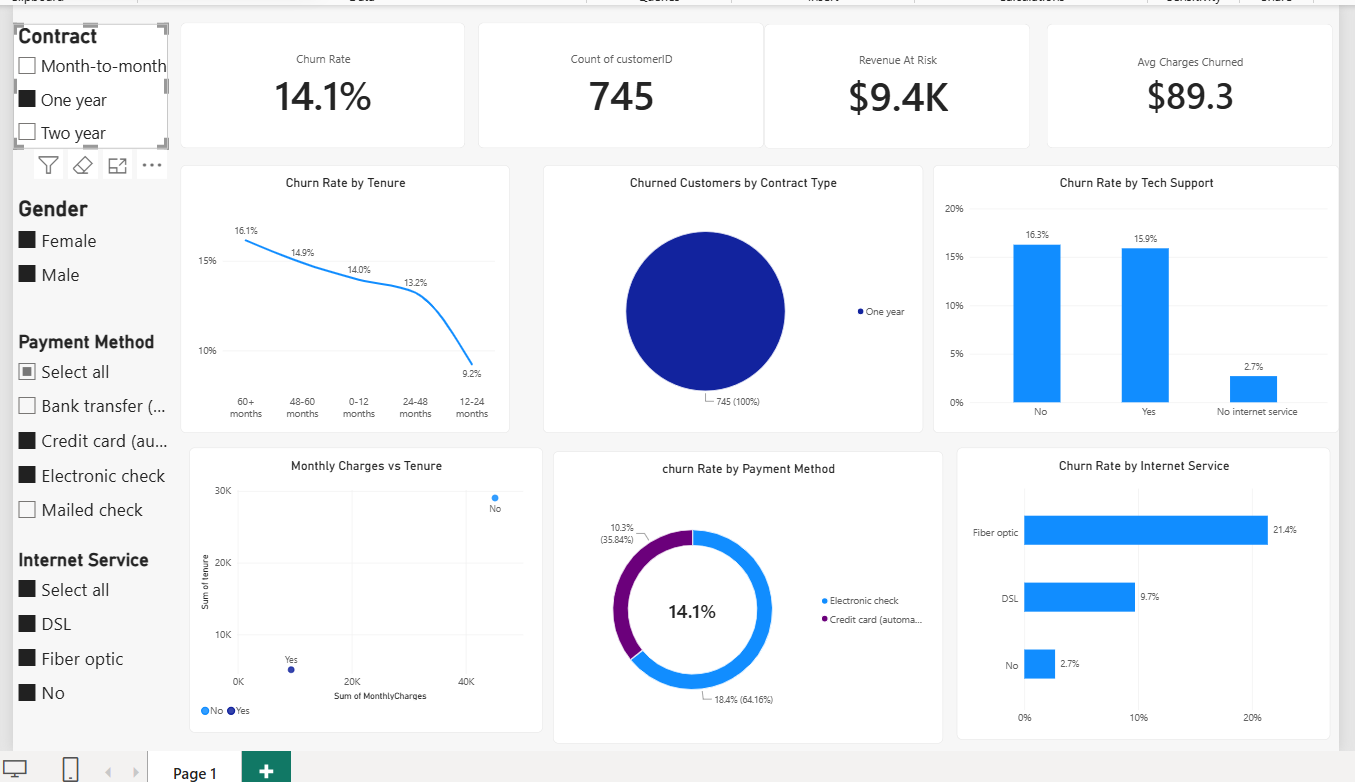

The page's visual inventory and layout, read from the dashboard file:
{"tool":"powerbi","page":{"name":"Page 1","canvas":[1920,1080],"ordinal":0},"visuals":[{"type":"cardVisual","fields":{"Data":["telco_churn_cleaned.Churn Rate"]},"box":[255.6,82.1,397.9,178.9],"z":0},{"type":"cardVisual","fields":{"Data":["CountNonNull(telco_churn_cleaned.customerID)"]},"box":[666.3,82.1,399.8,178.9],"z":1000},{"type":"cardVisual","fields":{"Data":["telco_churn_cleaned.Revenue At Risk"]},"box":[1093.4,82.1,387,178.9],"z":2000},{"type":"cardVisual","fields":{"Data":["telco_churn_cleaned.Avg Charges Churned"]},"box":[1502.3,82.1,418,178.9],"z":3000},{"type":"lineChart","title":"Churn Rate by Tenure","fields":{"Category":["telco_churn_cleaned.TenureGroup"],"Y":["telco_churn_cleaned.Churn Rate"]},"box":[255.6,275.6,511.1,388.8],"z":4000},{"type":"donutChart","title":"churn Rate by Payment Method","fields":{"Category":["telco_churn_cleaned.PaymentMethod"],"Y":["telco_churn_cleaned.Churn Rate"]},"box":[781.3,680.9,569.5,388.8],"z":5000},{"type":"clusteredBarChart","title":"Churn Rate by Internet Service","fields":{"Y":["telco_churn_cleaned.Churn Rate"],"Category":["telco_churn_cleaned.InternetService"]},"box":[1365.4,680.9,554.9,388.8],"z":6000},{"type":"clusteredColumnChart","title":"Churn Rate by Tech Support","fields":{"Category":["telco_churn_cleaned.TechSupport"],"Y":["telco_churn_cleaned.Churn Rate"]},"box":[1365.4,275.6,554.9,390.6],"z":7000},{"type":"pieChart","title":"Churned Customers by Contract Type","fields":{"Category":["telco_churn_cleaned.Contract"],"Y":["CountNonNull(telco_churn_cleaned.customerID)"]},"box":[781.3,275.6,569.5,388.8],"z":9000},{"type":"slicer","fields":{"Values":["telco_churn_cleaned.Contract"]},"box":[0,0,242.8,246.4],"z":10000},{"type":"slicer","fields":{"Values":["telco_churn_cleaned.gender"]},"box":[0,261,242.8,193.5],"z":11000},{"type":"slicer","fields":{"Values":["telco_churn_cleaned.PaymentMethod"]},"box":[0,471,242.8,301.2],"z":12000},{"type":"slicer","title":"Internet Service","fields":{"Values":["telco_churn_cleaned.InternetService"]},"box":[0,787.2,242.5,282.3],"z":13000},{"type":"textbox","box":[255,0,1665.5,69.7],"z":13001},{"type":"funnel","title":"Avg Monthly Charges: Churned vs Retained","fields":{"Category":["telco_churn_cleaned.Churn"],"Y":["Avg(telco_churn_cleaned.MonthlyCharges)"]},"box":[256.6,681.5,511.1,387],"z":13002}]}

Visuals, with their boxes on the page's 1920x1080 design canvas (x1, y1, x2, y2). These are canvas units, not pixel positions in the 1355x782 screenshot, which may show the page scaled, cropped or inside an application window:
cardVisual - telco_churn_cleaned.Churn Rate: (256,82,654,261)
cardVisual - CountNonNull(telco_churn_cleaned.customerID): (666,82,1066,261)
cardVisual - telco_churn_cleaned.Revenue At Risk: (1093,82,1480,261)
cardVisual - telco_churn_cleaned.Avg Charges Churned: (1502,82,1920,261)
"Churn Rate by Tenure" lineChart: (256,276,767,664)
"churn Rate by Payment Method" donutChart: (781,681,1351,1070)
"Churn Rate by Internet Service" clusteredBarChart: (1365,681,1920,1070)
"Churn Rate by Tech Support" clusteredColumnChart: (1365,276,1920,666)
"Churned Customers by Contract Type" pieChart: (781,276,1351,664)
slicer - telco_churn_cleaned.Contract: (0,0,243,246)
slicer - telco_churn_cleaned.gender: (0,261,243,454)
slicer - telco_churn_cleaned.PaymentMethod: (0,471,243,772)
"Internet Service" slicer: (0,787,242,1070)
textbox: (255,0,1920,70)
"Avg Monthly Charges: Churned vs Retained" funnel: (257,682,768,1068)
